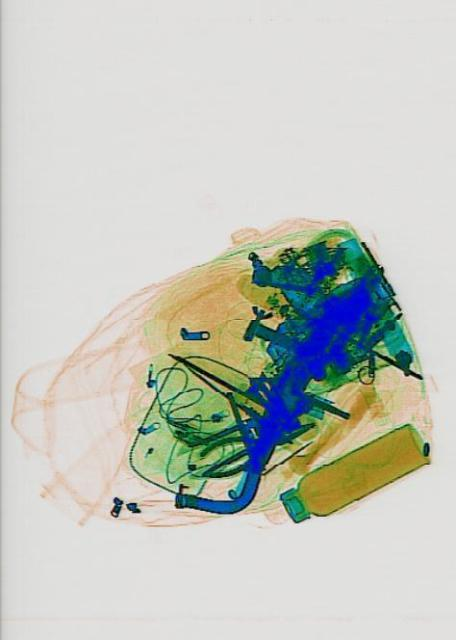Pliers: (196, 406, 316, 484)
